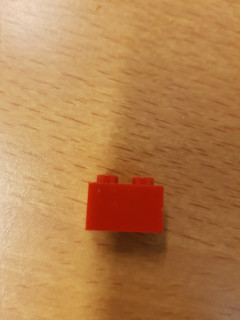1x2 red: (86, 175, 166, 233)
